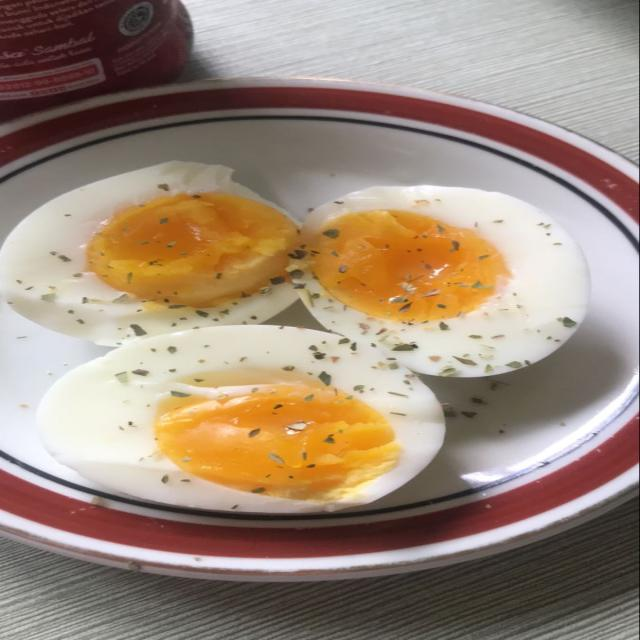eggs: (49, 154, 546, 512)
